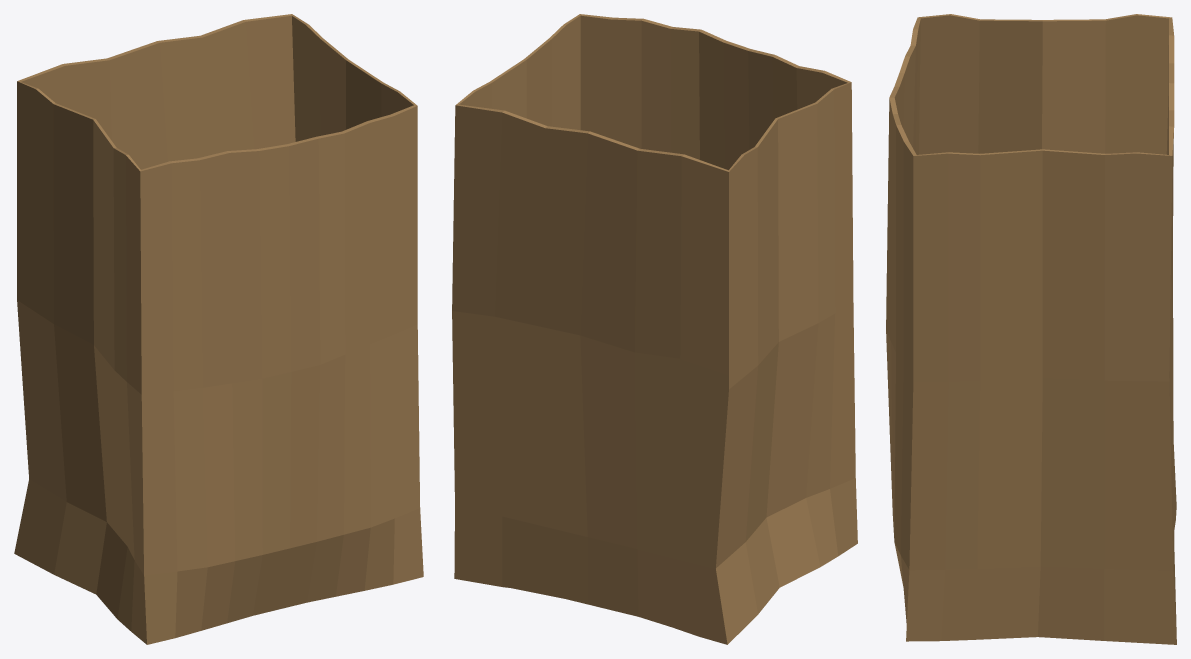
File: Brown_paper_bag 1.fbx
3 renders of one model, left to right at view 1: azimuth 30°, elevation 25°; view 2: azimuth 150°, elevation 25°; view 3: azimuth 270°, elevation 25°, orthographic. The views are drawn at different scales.
Parts seen in each view (by area): view 1: brown paper bag; view 2: brown paper bag; view 3: brown paper bag.
Boxes of the visible parts, x1,y1,x2,y2 form: brown paper bag: (14,14,423,644); brown paper bag: (452,14,857,644); brown paper bag: (886,14,1176,644).
Size of the model in its own units: 168 by 274 by 146.
